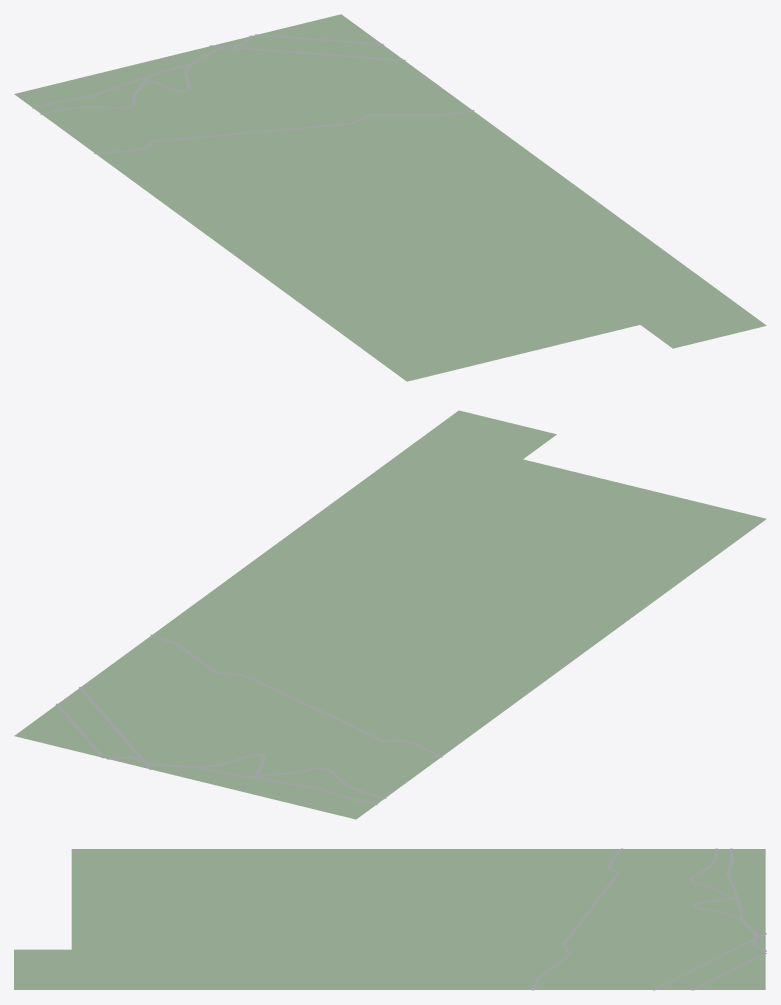
The model's file is -4_3-known-coarse.glb.
3 renders of one model, top to bottom at view 1: azimuth 30°, elevation 25°; view 2: azimuth 150°, elevation 25°; view 3: azimuth 270°, elevation 25°, orthographic. The views are drawn at different scales.
Bounding box in the file's own units: 336 × 0.1 × 750.
